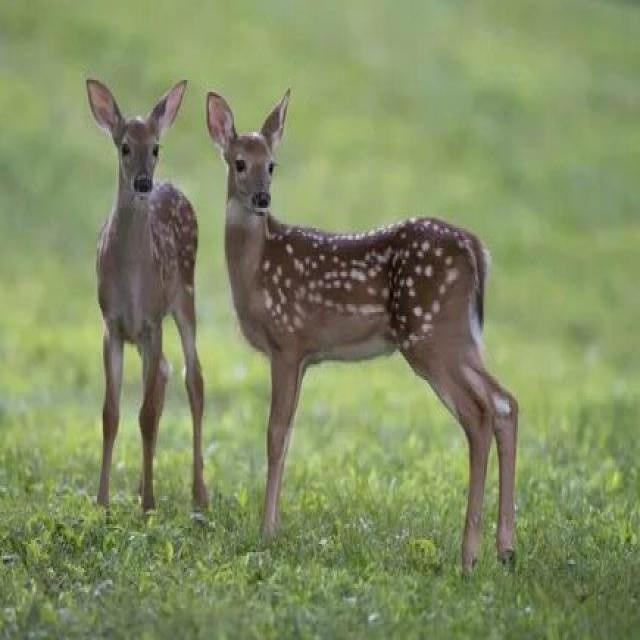deer: (209, 71, 582, 572), (75, 69, 236, 522)
